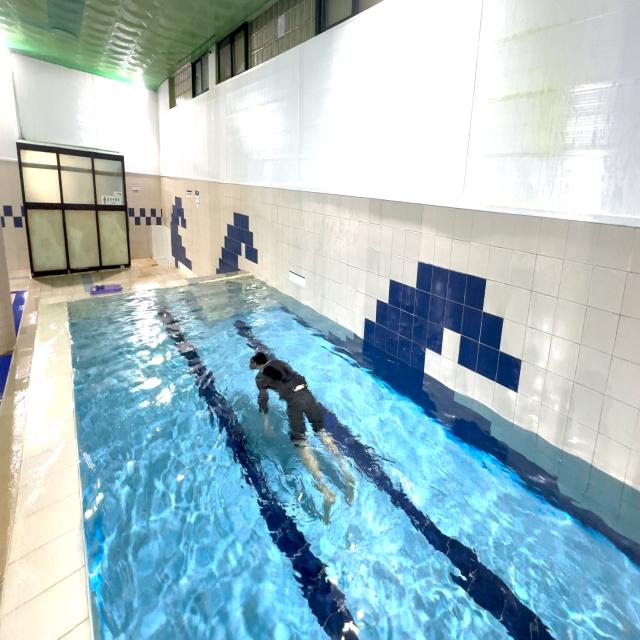Drowning: (245, 342, 363, 530)
